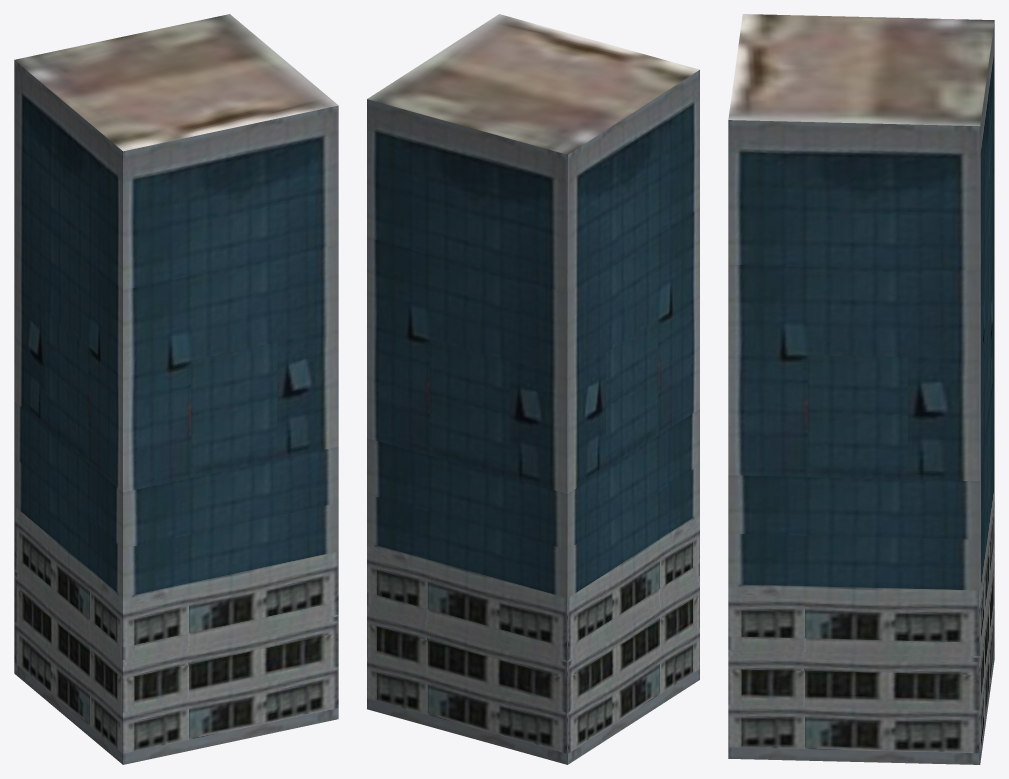
The picture shows the model from 3 angles, left to right: view 1: azimuth 30°, elevation 25°; view 2: azimuth 150°, elevation 25°; view 3: azimuth 270°, elevation 25°; orthographic projection. The views are drawn at different scales.
Parts seen in each view (by area): view 1: SketchUp (×2); view 2: SketchUp (×2); view 3: SketchUp (×2).
Part boxes in pixels (x1,y1,x2,y2): SketchUp (×2): (14, 14, 338, 764); SketchUp (×2): (367, 14, 699, 764); SketchUp (×2): (728, 14, 994, 764).
Bounding box in the file's own units: 458 × 459 × 1215.
4 materials, 2 textured.
